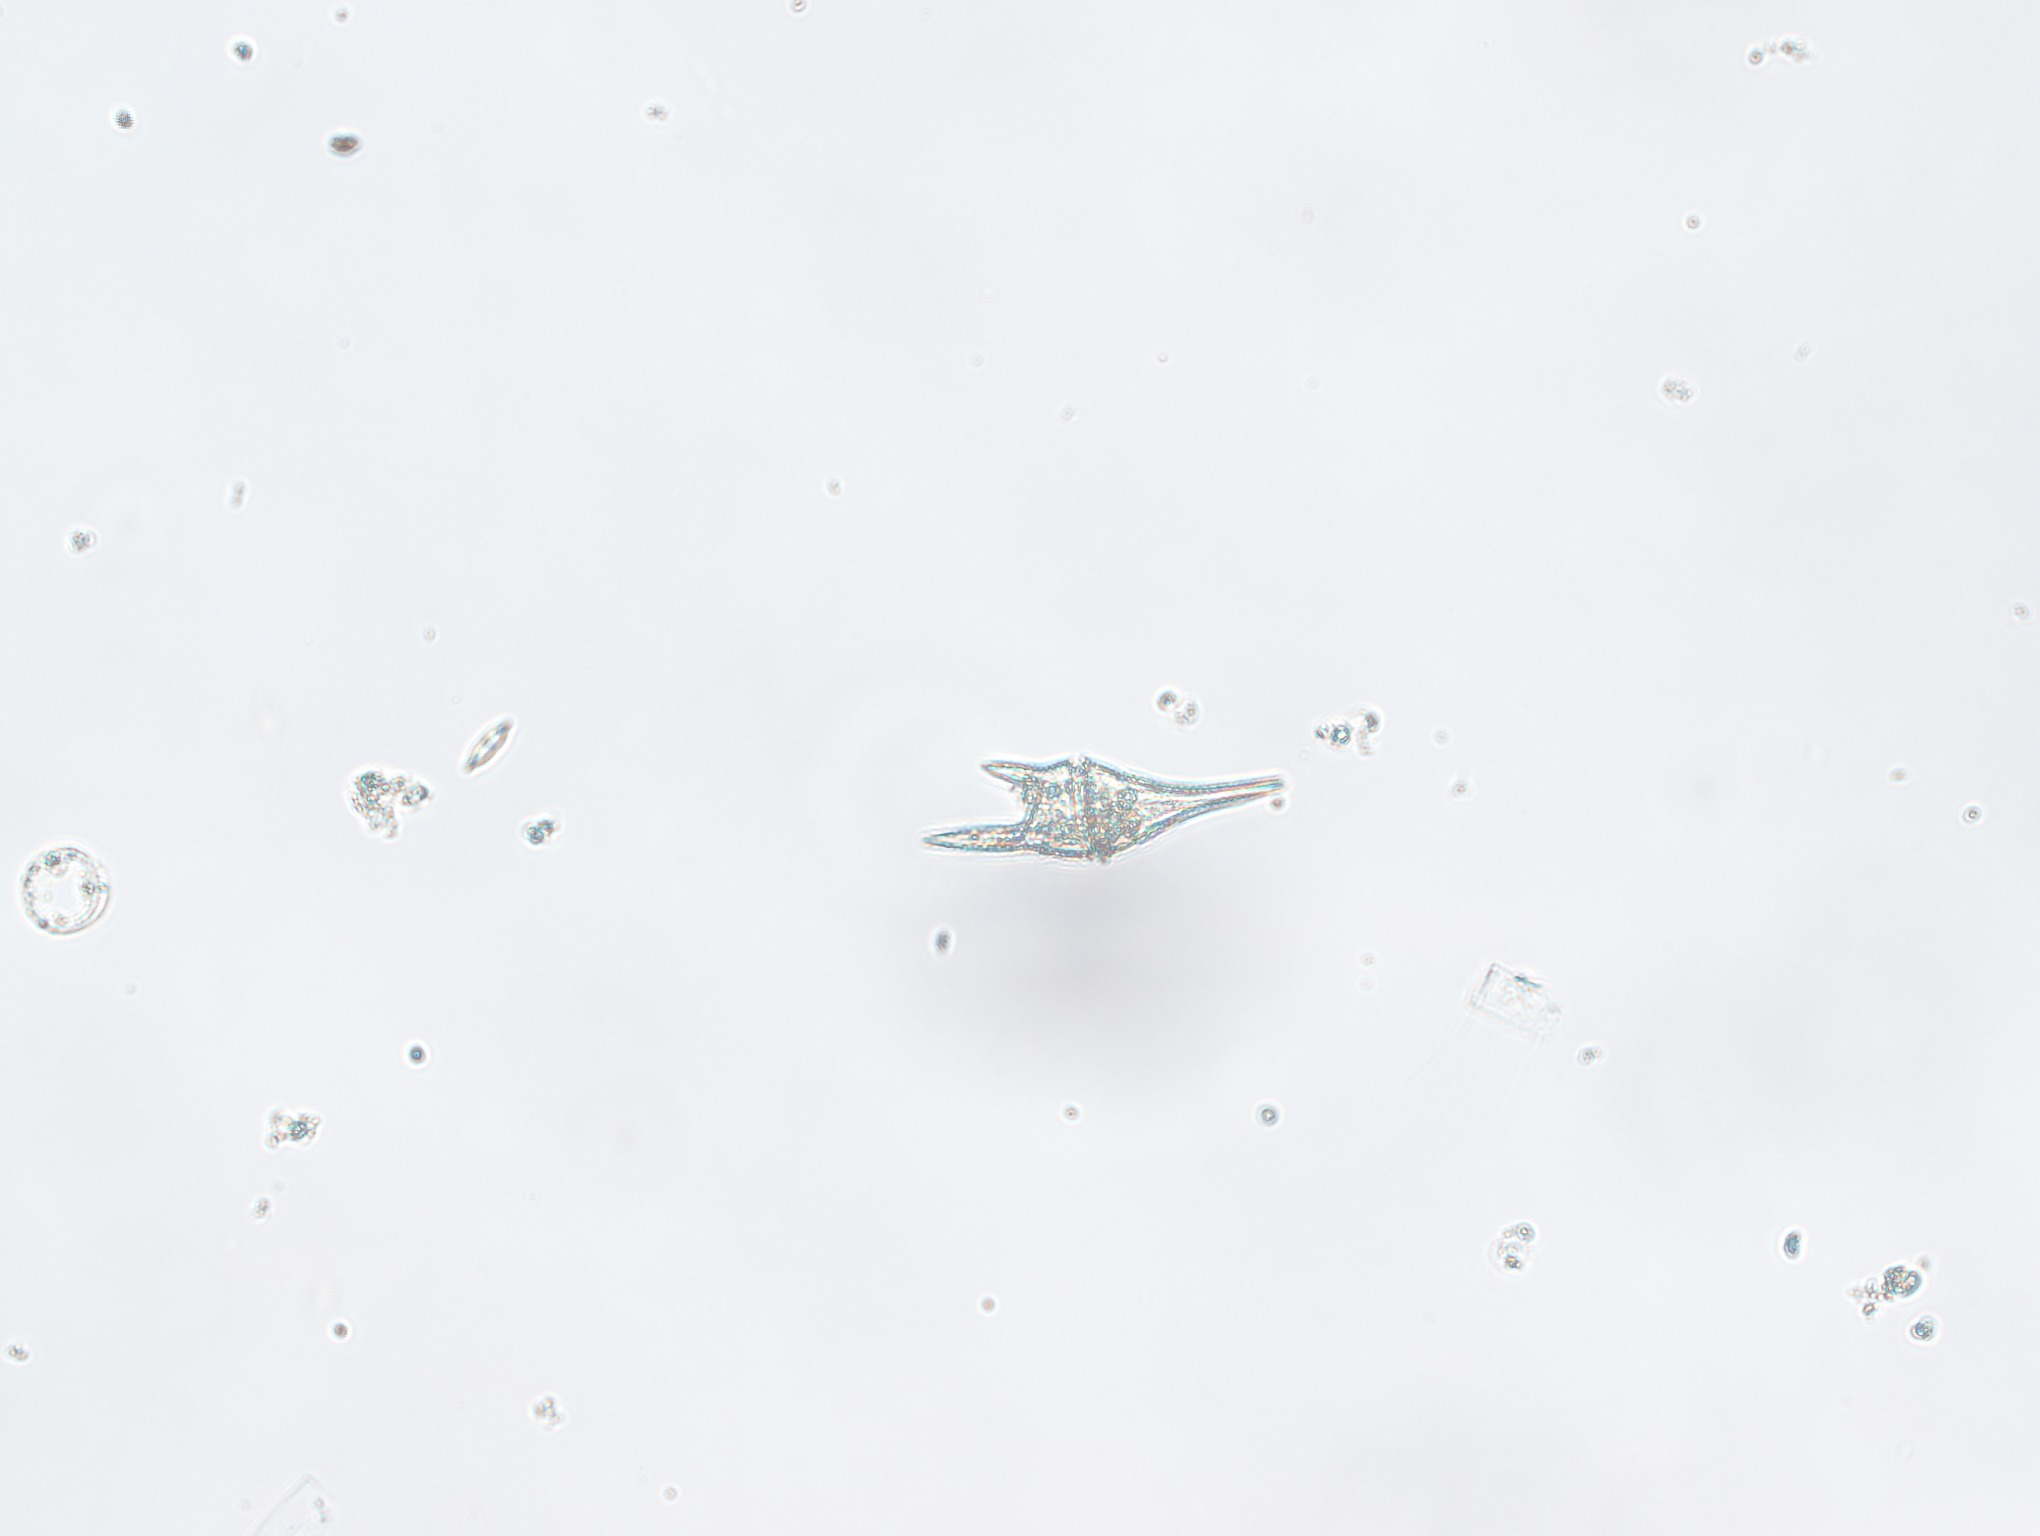ceratium furca: (908, 728, 1298, 868)
